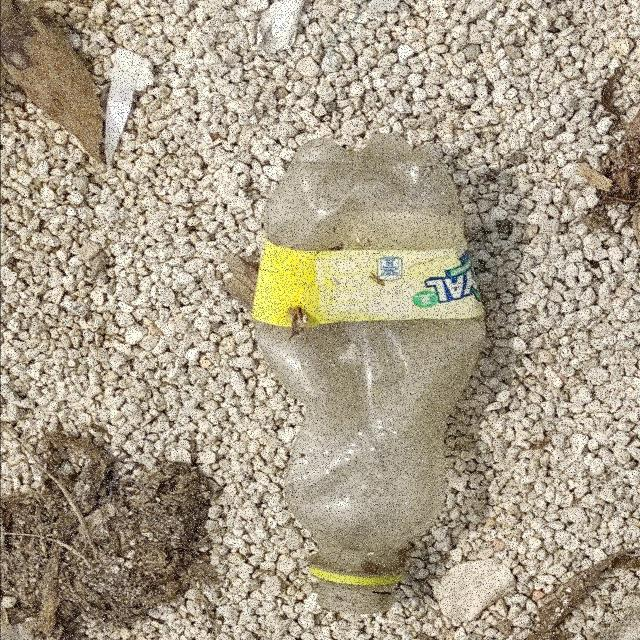plastic_waste: (253, 130, 484, 615)
